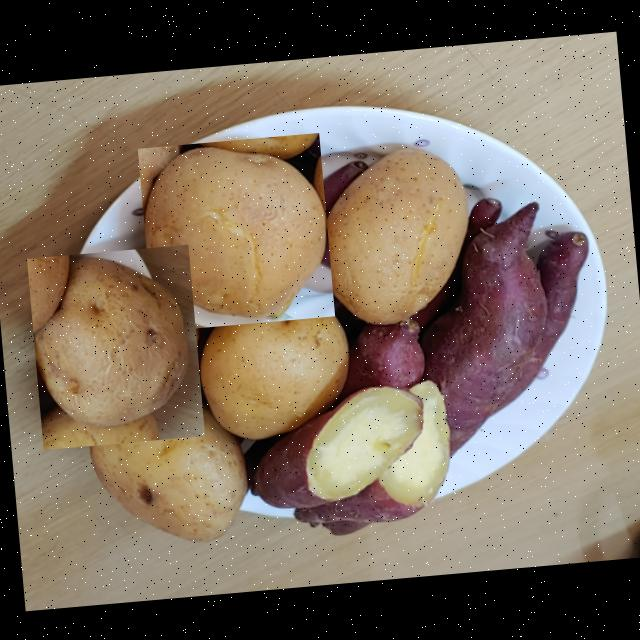Potato: (136, 132, 334, 330), (25, 244, 204, 448), (316, 130, 481, 336), (75, 388, 252, 566), (178, 296, 377, 454)
